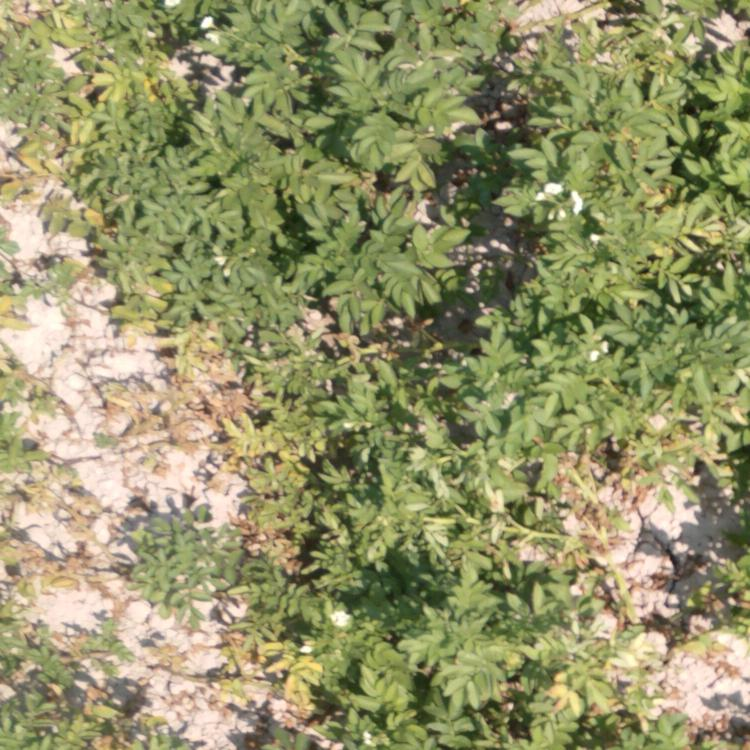healthy: (372, 1, 750, 288), (357, 291, 733, 458), (216, 1, 347, 323), (408, 604, 617, 750), (340, 470, 574, 587), (124, 500, 211, 606)
stressed: (2, 1, 197, 182), (56, 179, 214, 373), (218, 375, 331, 611), (200, 615, 384, 750), (1, 338, 83, 612), (1, 617, 145, 750)
